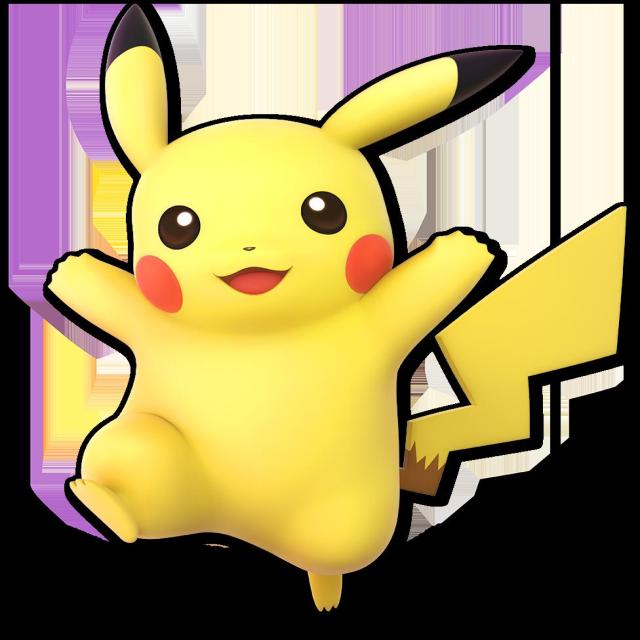pikachu: (48, 6, 626, 610)
